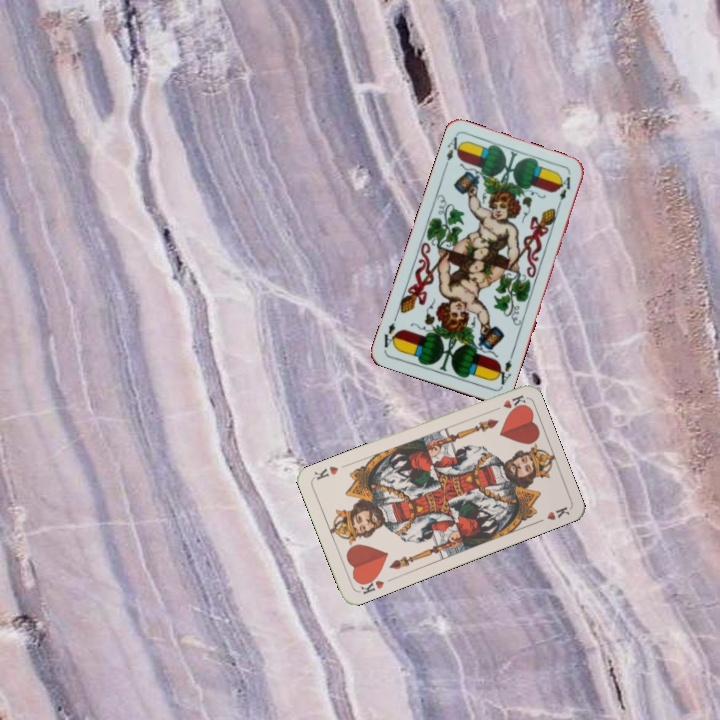EA: (491, 350, 516, 390), (442, 132, 465, 163)
HK: (487, 390, 527, 414), (355, 572, 386, 597)
